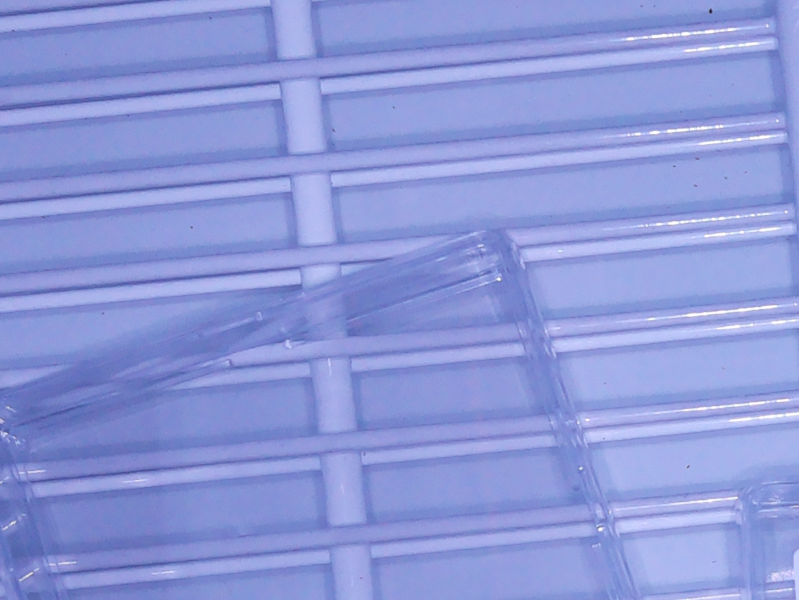plate: (1, 220, 637, 600), (738, 477, 799, 600)
